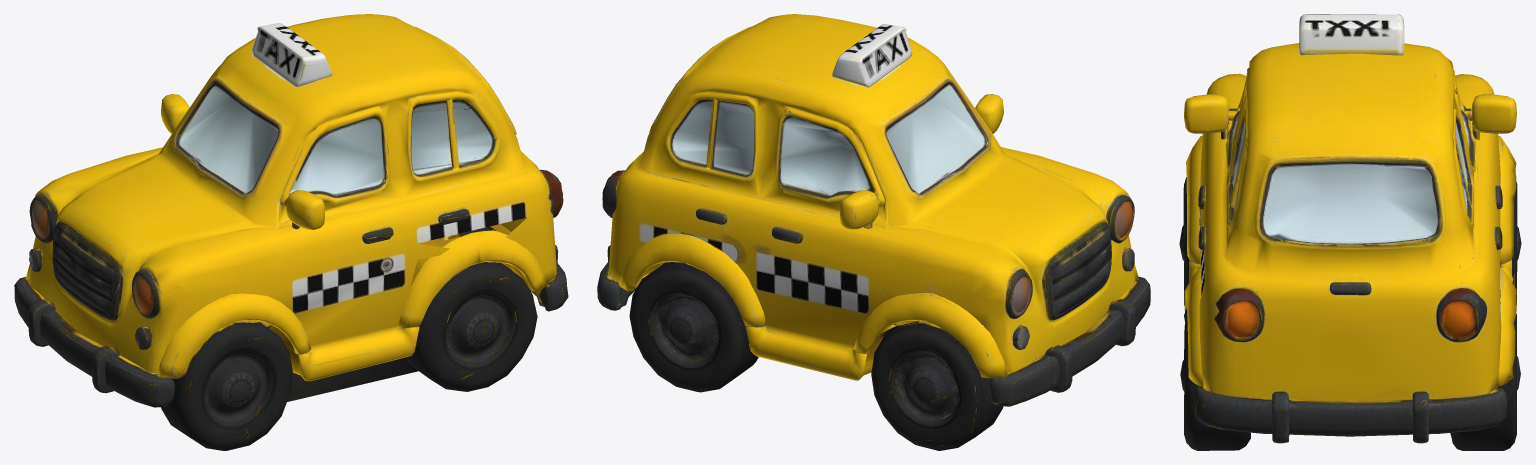
File: trafficTaxi.22c9d43b.glb
3 renders of one model, left to right at view 1: azimuth 30°, elevation 25°; view 2: azimuth 150°, elevation 25°; view 3: azimuth 270°, elevation 25°, orthographic. The views are drawn at different scales.
Size of the model in its own units: 0.9531 by 0.6465 by 0.5532.
1 material, 1 textured.
